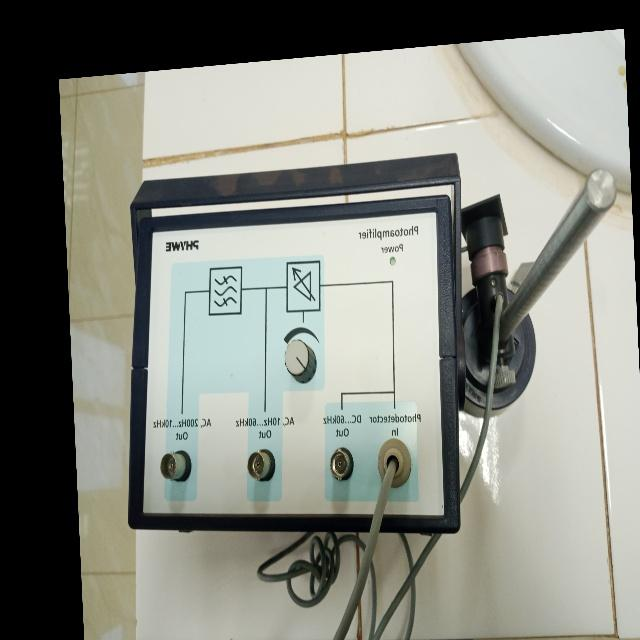Photo Amplifier Power Supply: (100, 118, 637, 590)
